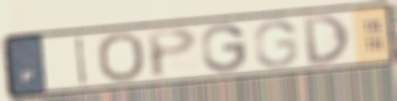D: (301, 13, 353, 67)
G: (199, 22, 248, 74), (252, 18, 300, 70)
I: (74, 34, 89, 88)
O: (94, 31, 147, 84)
P: (144, 26, 201, 80)
